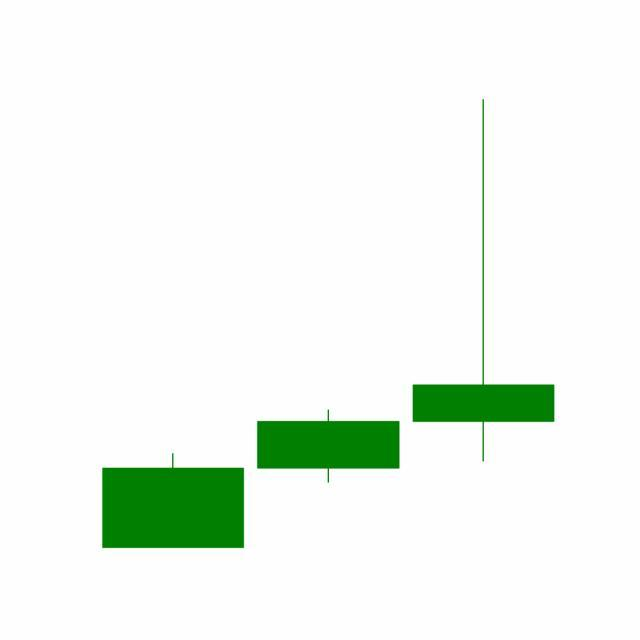Spinning Top: (406, 96, 562, 467)
